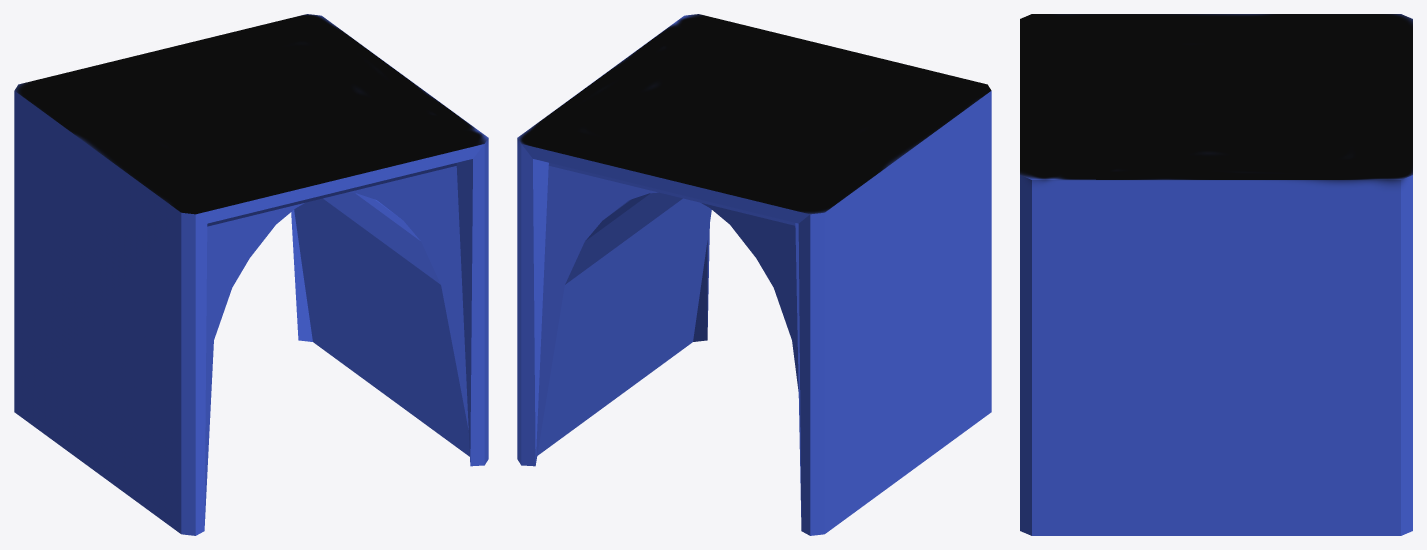
File: Arch.glb
3 renders of one model, left to right at view 1: azimuth 30°, elevation 25°; view 2: azimuth 150°, elevation 25°; view 3: azimuth 270°, elevation 25°, orthographic. The views are drawn at different scales.
Parts seen in each view (by area): view 1: Arch; view 2: Arch; view 3: Arch.
Boxes of the visible parts, x1,y1,x2,y2 form: Arch: (14, 14, 488, 535); Arch: (517, 14, 991, 535); Arch: (1020, 14, 1412, 535).
Bounding box in the file's own units: 1 × 1 × 1.
Materials: 1 (1 with a texture image).
